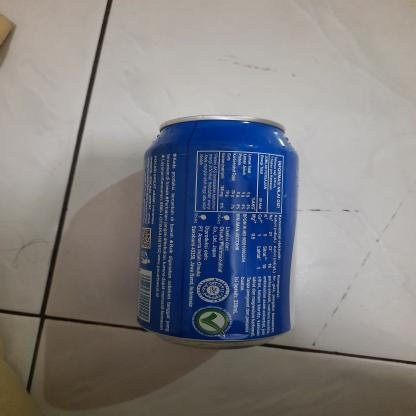can: (134, 113, 302, 352)
